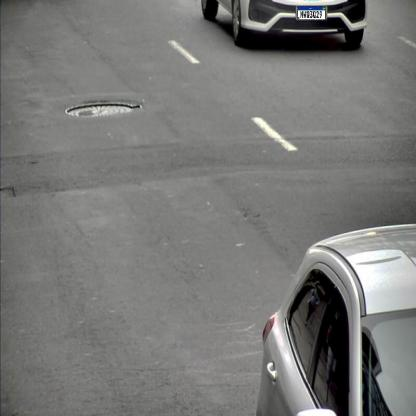PlacaM: (298, 6, 326, 20)
